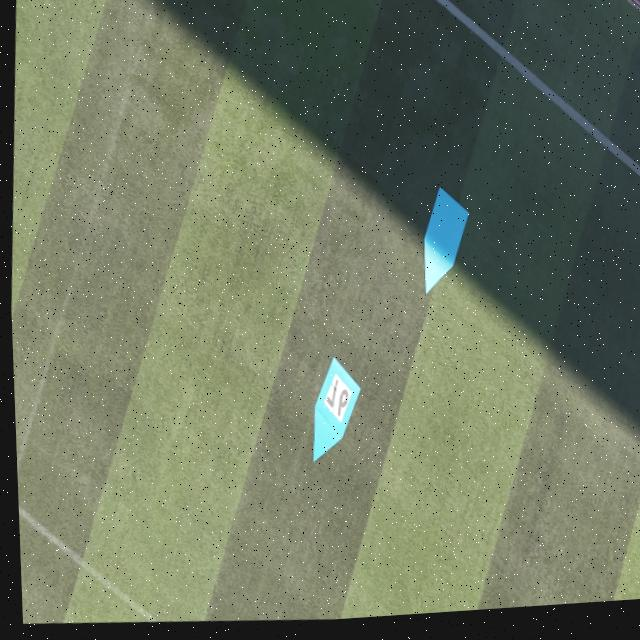board: (309, 362, 358, 468), (421, 192, 467, 301)
